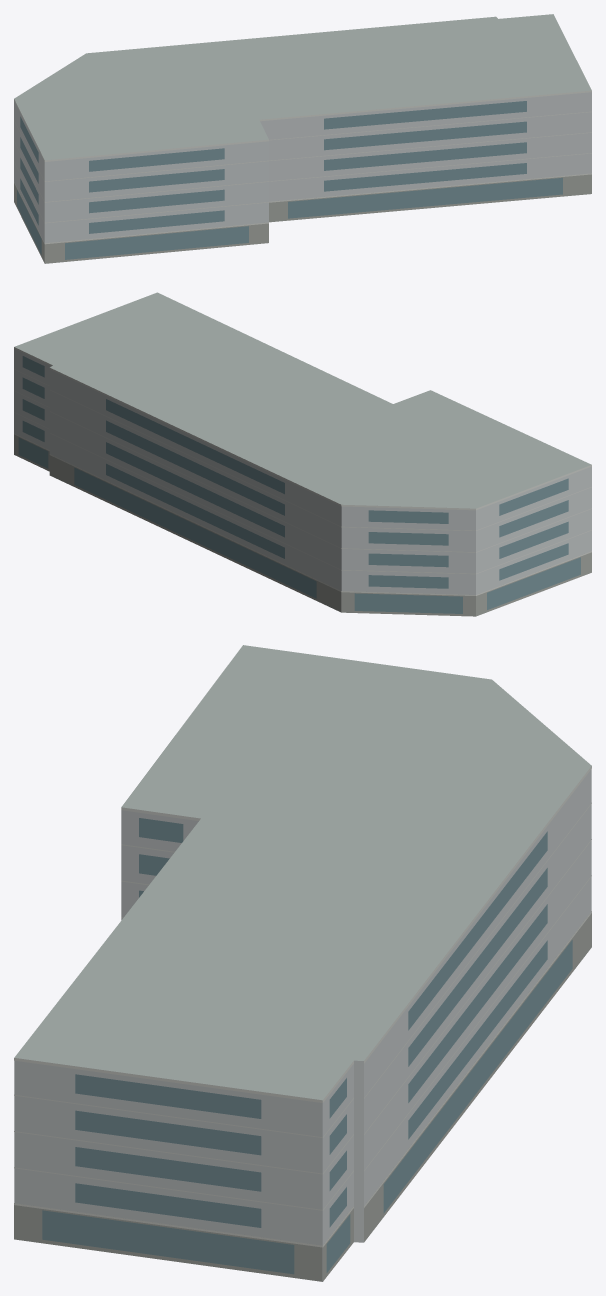
Rendered from survey-upis-32820825.glb.
3 views of the same model, one above another, from view 1: azimuth 30°, elevation 25°; view 2: azimuth 150°, elevation 25°; view 3: azimuth 270°, elevation 25° (orthographic). The views are drawn at different scales.
Visible parts, largest first — view 1: survey-upis-32820825.tmp; view 2: survey-upis-32820825.tmp; view 3: survey-upis-32820825.tmp.
Part boxes in pixels (x1,y1,x2,y2): survey-upis-32820825.tmp: (14, 14, 591, 263); survey-upis-32820825.tmp: (14, 292, 591, 616); survey-upis-32820825.tmp: (14, 645, 591, 1281).
Bounding box in the file's own units: 82 × 15.25 × 43.98.
